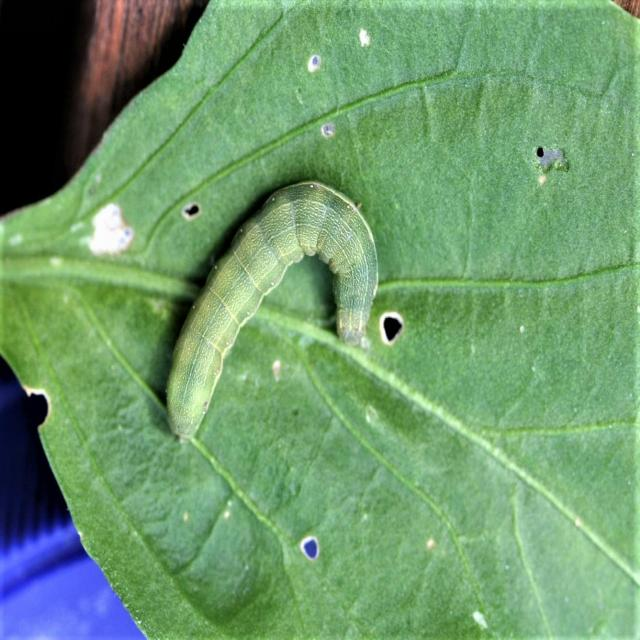armyworm: (164, 179, 378, 442)
